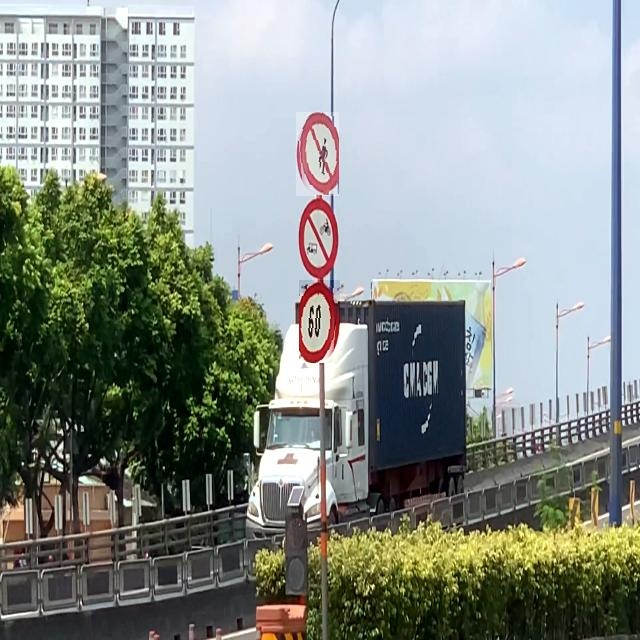bien_cam: (296, 112, 339, 196), (299, 280, 340, 363)
